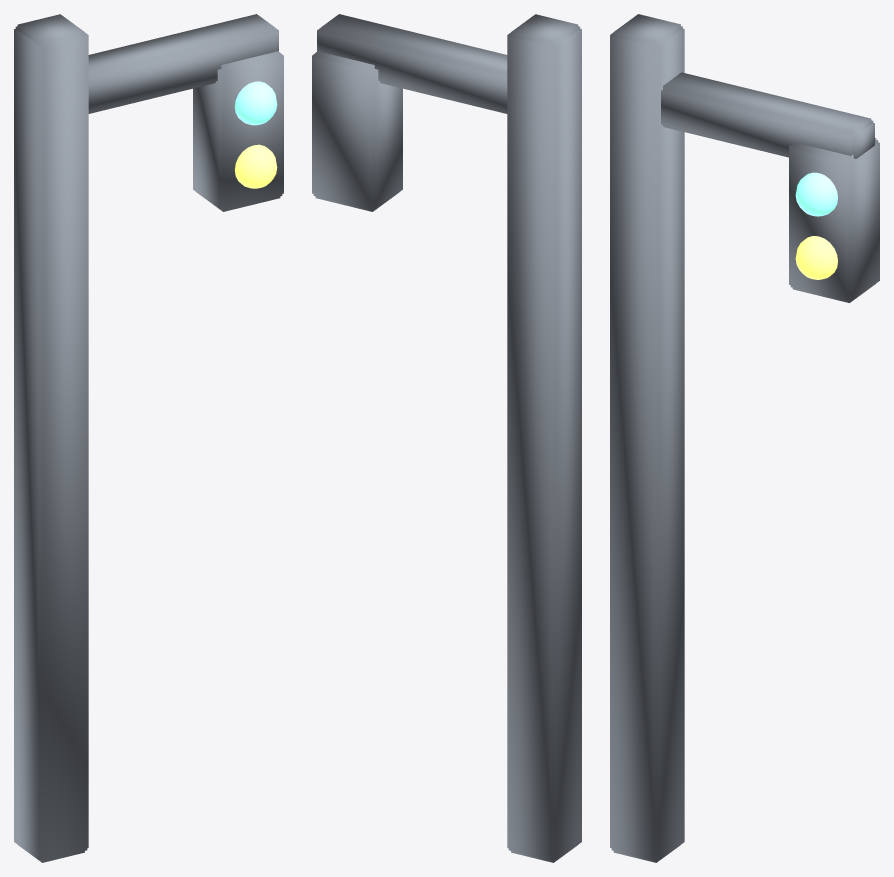
The model's file is signal-gantry.glb.
The picture shows the model from 3 angles, left to right: view 1: azimuth 30°, elevation 25°; view 2: azimuth 150°, elevation 25°; view 3: azimuth 330°, elevation 25°; orthographic projection.
Visible parts, largest first — view 1: SignalGantry; view 2: SignalGantry; view 3: SignalGantry.
Boxes of the visible parts, x1,y1,x2,y2 form: SignalGantry: (14,14,283,862); SignalGantry: (312,14,581,862); SignalGantry: (610,14,879,862).
Bounding box in the file's own units: 1.37 × 4.4 × 0.42.
